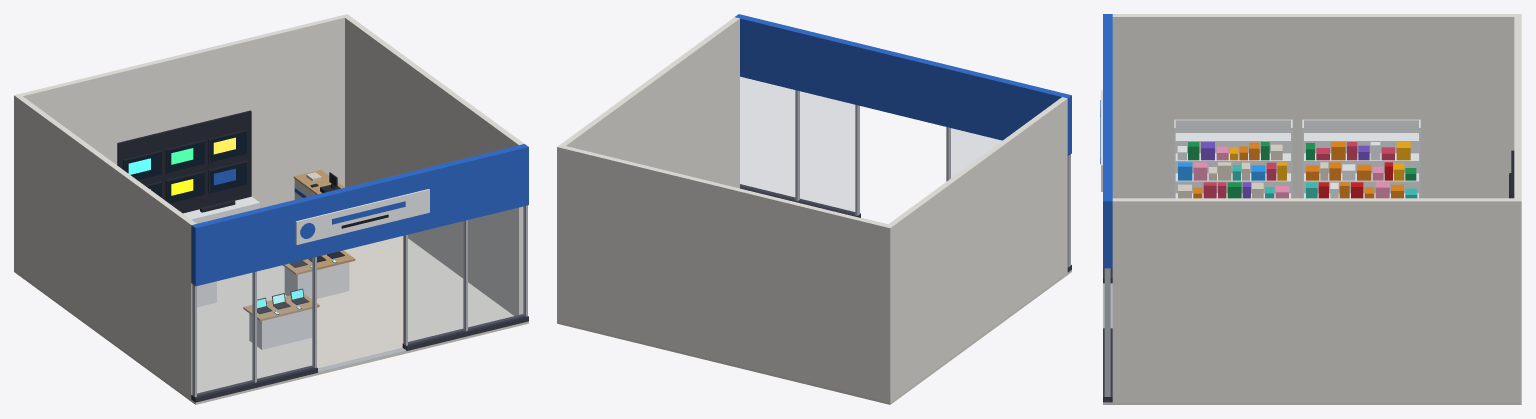
The model's file is mal-004.glb.
3 views of the same model, side by side, from view 1: azimuth 30°, elevation 25°; view 2: azimuth 150°, elevation 25°; view 3: azimuth 270°, elevation 25° (orthographic). The views are drawn at different scales.
Visible parts, largest first — view 1: mall_wall, glass_clear, mall_floor, brand_electronics, white, plastic_dark, stainless, monitor_screen, dark_steel, oak, trace_spo2; view 2: mall_wall, brand_electronics, glass_clear, stainless, mall_floor, dark_steel; view 3: mall_wall, white, brand_electronics, fruit_orange, paper, mall_floor, brand_fashion, chart_lanthanide, stainless, safety_green, accent_amber, brand_home (+4 smaller).
Boxes of the visible parts, box(x1,y1,x2,y2) form: mall_wall: box(14, 14, 524, 398); glass_clear: box(197, 207, 523, 394); mall_floor: box(14, 236, 528, 404); brand_electronics: box(191, 144, 528, 286); white: box(183, 179, 429, 349); plastic_dark: box(117, 110, 344, 314); stainless: box(192, 205, 527, 397); monitor_screen: box(125, 131, 246, 203); dark_steel: box(191, 314, 528, 402); oak: box(243, 169, 355, 321); trace_spo2: box(128, 158, 303, 308); mall_wall: box(557, 17, 1067, 402); brand_electronics: box(735, 14, 1071, 155); glass_clear: box(740, 77, 1000, 213); stainless: box(795, 90, 1070, 267); mall_floor: box(557, 270, 1071, 404); dark_steel: box(740, 184, 1071, 272); mall_wall: box(1112, 14, 1521, 402); white: box(1101, 90, 1420, 198); brand_electronics: box(1100, 14, 1112, 268); fruit_orange: box(1193, 142, 1403, 198); paper: box(1178, 144, 1328, 198); mall_floor: box(1103, 402, 1521, 404); brand_fashion: box(1203, 142, 1394, 198); chart_lanthanide: box(1193, 146, 1389, 198); stainless: box(1103, 268, 1112, 401); safety_green: box(1188, 142, 1416, 198); accent_amber: box(1230, 142, 1410, 180); brand_home: box(1201, 142, 1369, 198).
Bounding box in the file's own units: 9 × 4.56 × 8.55.
